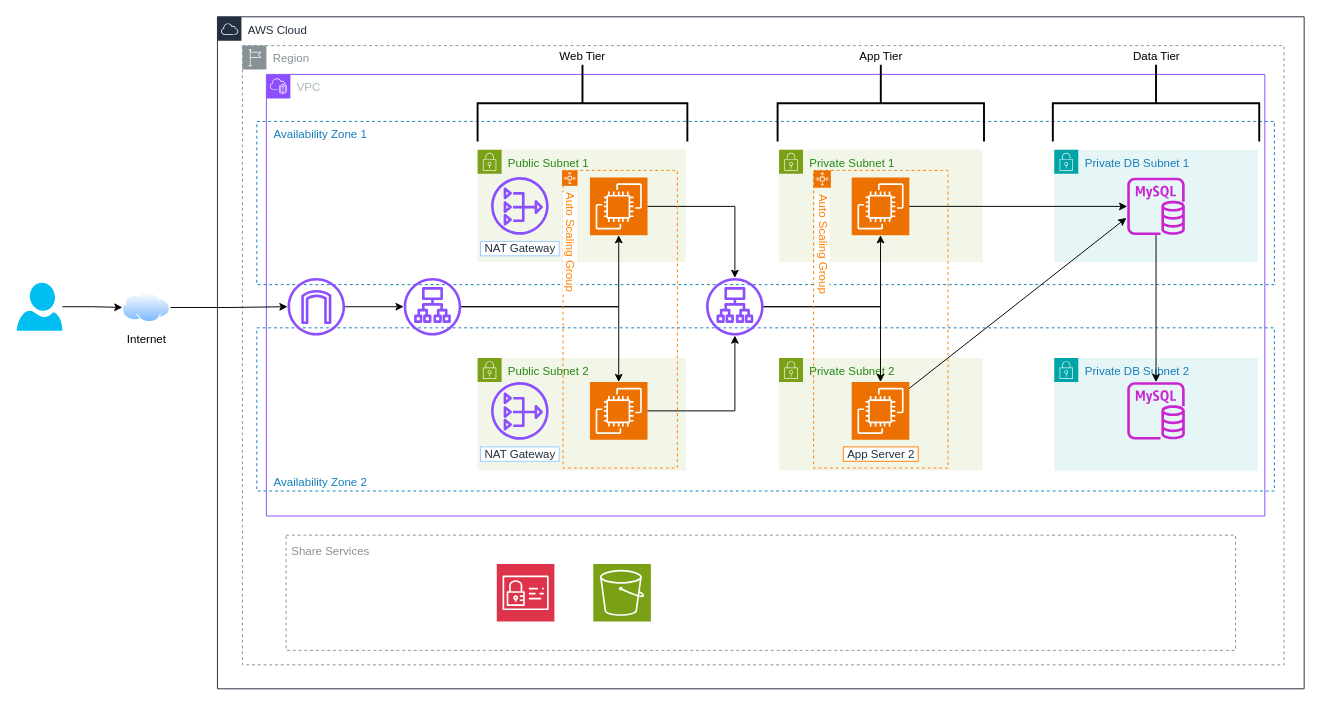
Image size: 1321x706. Some labels were removed from this diagram. Each missing label, with the centre of its shape:
App Server 1: (x=880, y=206)
External LB: (x=432, y=306)
IAM: (x=525, y=592)
Internal LB: (x=734, y=306)
Internet Gateway: (x=316, y=306)
Primary MySQL DB: (x=1155, y=206)
S3 Bucket: (x=621, y=592)
Standby MySQL DB: (x=1155, y=410)
User: (x=39, y=306)
Web Server 1: (x=618, y=206)
Web Server 2: (x=618, y=410)
